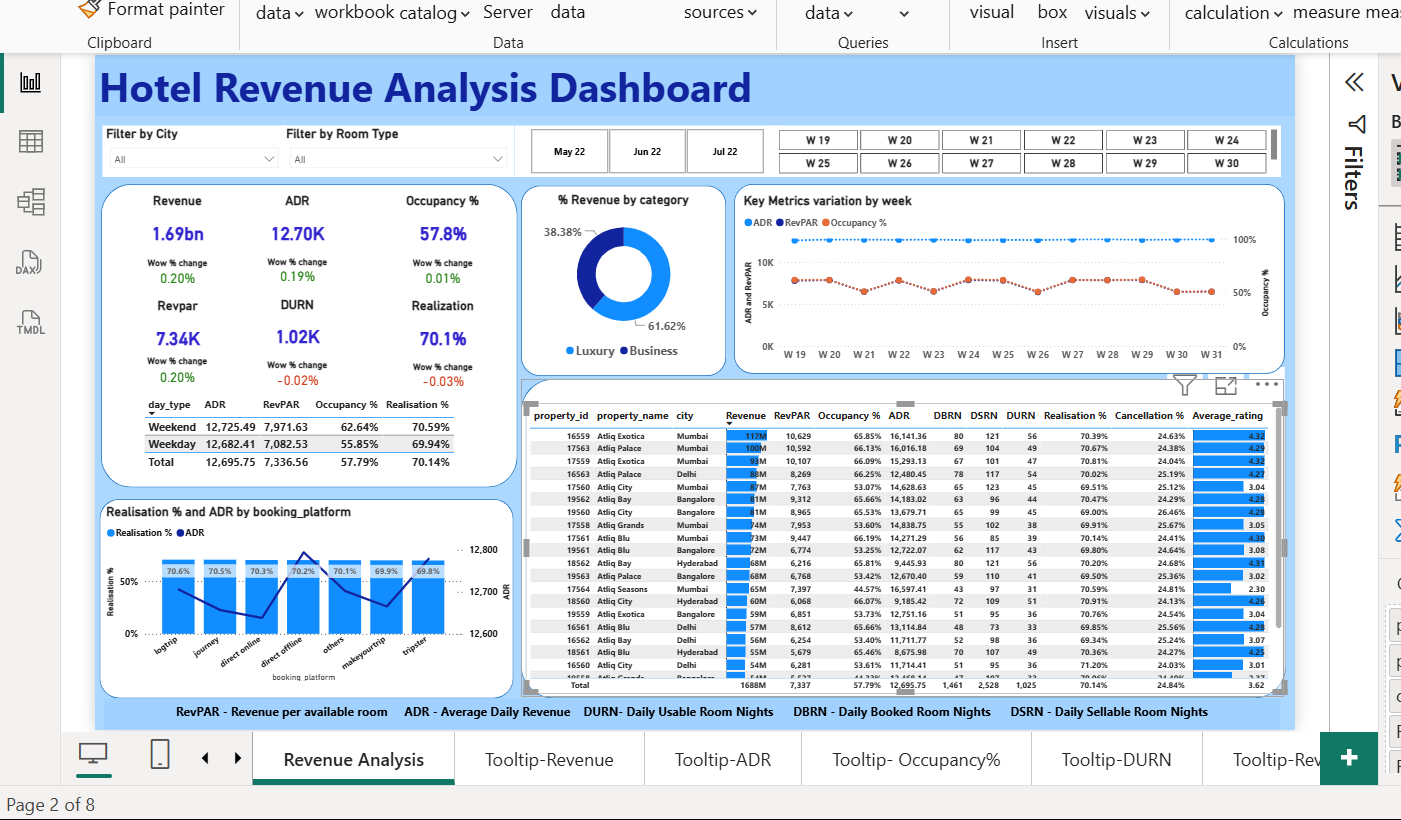

The page's visual inventory and layout, read from the dashboard file:
{"tool":"powerbi","page":{"name":"Revenue Analysis","canvas":[1600,900],"ordinal":1},"visuals":[{"type":"slicer","title":"Filter by City","fields":{"Values":["dim_hotels.city"]},"box":[10.8,93.6,244.8,68.4],"z":0},{"type":"card","title":"ADR","fields":{"Values":["Key_measures.ADR"]},"box":[199.1,185.1,139.5,85.5],"z":0,"group":"g2"},{"type":"group","id":"g1","title":"Group 2","box":[38.9,185.3,139.9,127],"z":0,"group":"g12"},{"type":"card","title":"Revenue ","fields":{"Values":["Key_measures.Revenue"]},"box":[38.9,185.3,139.9,85.5],"z":0,"group":"g1"},{"type":"card","title":"Occupancy %","fields":{"Values":["Key_measures.Occupancy %"]},"box":[392.3,185.8,139.3,86.2],"z":0,"group":"g3"},{"type":"card","title":"DURN","fields":{"Values":["Key_measures.DURN"]},"box":[199.2,323.4,139.5,85.5],"z":0,"group":"g5"},{"type":"card","title":"Realization","fields":{"Values":["Key_measures.Realisation %"]},"box":[392.6,324.5,139.5,85.5],"z":0,"group":"g6"},{"type":"card","title":"Revpar","fields":{"Values":["Key_measures.RevPAR"]},"box":[39.2,325.6,140.3,85.5],"z":0,"group":"g4"},{"type":"shape","box":[582.6,463.3,1020.2,425.6],"z":0,"group":"g7"},{"type":"slicer","title":"Filter by Room Type","fields":{"Values":["dim_rooms.room_class"]},"box":[250.2,93.6,309.6,68.4],"z":1000},{"type":"group","id":"g2","title":"Group 3","box":[199.1,185.1,140,125.6],"z":1000,"group":"g12"},{"type":"card","title":"Wow % change","fields":{"Values":["Key_measures.ADR WoW change %"]},"box":[199.6,269.6,139.5,41.1],"z":1000,"group":"g2"},{"type":"card","title":"Wow % change","fields":{"Values":["Key_measures.Revenue WoW change %"]},"box":[38.9,270.3,139.9,42],"z":1000,"group":"g1"},{"type":"card","title":"Wow % change","fields":{"Values":["Key_measures.Occupancy WoW change %"]},"box":[392.3,270.9,139.3,42],"z":1000,"group":"g3"},{"type":"card","title":"Wow % change","fields":{"Values":["Key_measures.Revpar WoW change %"]},"box":[39.2,400.8,139.3,46.3],"z":1000,"group":"g4"},{"type":"card","title":"Wow % change","fields":{"Values":["Key_measures.DSRN WoW change %"]},"box":[199.4,408.1,139.3,41],"z":1000,"group":"g5"},{"type":"card","title":"Wow % change","fields":{"Values":["Key_measures.Realisation WoW change %"]},"box":[393,409.2,139.5,41.1],"z":1000,"group":"g6"},{"type":"shape","box":[5.4,592.2,552,265.9],"z":1000,"group":"g11"},{"type":"slicer","fields":{"Values":["dim_date.mmm yy"]},"box":[559.8,93.6,351,68.4],"z":2000},{"type":"shape","box":[851.4,172.8,734.4,253.2],"z":2000,"group":"g8"},{"type":"group","id":"g3","title":"Group 4","box":[392.3,185.8,139.3,127.1],"z":2000,"group":"g12"},{"type":"advancedSlicerVisual","fields":{"Values":["dim_date.week no"]},"box":[905.4,93.6,675,68.4],"z":3000},{"type":"shape","box":[568.8,174.6,273.6,254.1],"z":3000,"group":"g9"},{"type":"group","id":"g4","title":"Group 5","box":[39.2,325.6,140.3,121.6],"z":3000,"group":"g12"},{"type":"shape","box":[11.9,279.8,524.8,120.2],"z":4000},{"type":"group","id":"g5","title":"Group 6","box":[199.2,323.4,139.3,126.1],"z":4000,"group":"g12"},{"type":"tableEx","fields":{"Values":["dim_hotels.property_id","dim_hotels.property_name","dim_hotels.city","Key_measures.Revenue","Key_measures.RevPAR","Key_measures.Occupancy %","Key_measures.ADR","Key_measures.DBRN","Key_measures.DSRN","Key_measures.DURN","Key_measures.Realisation %","Key_measures.Cancellation %"]},"box":[589,495.3,1013.8,388],"z":4000,"group":"g7"},{"type":"group","id":"g6","title":"Group 7","box":[392.6,324.5,139.3,126.1],"z":5000,"group":"g12"},{"type":"group","id":"g7","title":"Group 8","box":[582.6,463.3,1018,425.5],"z":5000},{"type":"group","id":"g8","title":"Group 9","box":[851.4,172.8,734.4,253.2],"z":6000},{"type":"group","id":"g9","title":"Group 10","box":[568.8,174.6,273.6,255.6],"z":7000},{"type":"group","id":"g10","title":"Group 11","box":[7.2,172.8,554.4,405],"z":8000},{"type":"shape","box":[7.2,172.8,555.2,404.8],"z":9000,"group":"g10"},{"type":"group","id":"g11","title":"Group 12","box":[5.4,592.2,554.4,264.6],"z":9000},{"type":"textbox","box":[0,0,1600,81],"z":10000},{"type":"group","id":"g12","title":"Group 1","box":[38.9,185.1,493,264.6],"z":10000,"group":"g10"},{"type":"donutChart","title":"% Revenue by category","fields":{"Category":["dim_hotels.category"],"Y":["Key_measures.Revenue"]},"box":[580.3,182.3,249.1,232.4],"z":11000,"group":"g9"},{"type":"textbox","box":[12.6,858.6,1567.8,41.4],"z":11000},{"type":"lineClusteredColumnComboChart","fields":{"Category":["fact_bookings.booking_platform"],"Y":["Key_measures.Realisation %"],"Y2":["Key_measures.ADR"]},"box":[10.2,597.6,548.8,241.5],"z":12000,"group":"g11"},{"type":"lineChart","title":"Key Metrics variation by  week ","fields":{"Y":["Key_measures.ADR","Key_measures.RevPAR"],"Y2":["Key_measures.Occupancy %"],"Category":["dim_date.week no"]},"box":[859.7,185.8,711,234],"z":13000,"group":"g8"},{"type":"tableEx","fields":{"Values":["dim_date.day_type","Key_measures.ADR","Key_measures.RevPAR","Key_measures.Occupancy %","Key_measures.Realisation %"]},"box":[58.2,450.6,464.2,116.8],"z":14000,"group":"g10"}]}

Visuals, with their boxes on the page's 1600x900 design canvas (x1, y1, x2, y2). These are canvas units, not pixel positions in the 1401x820 screenshot, which may show the page scaled, cropped or inside an application window:
"Filter by City" slicer: l=11, t=94, r=256, b=162
"ADR" card: l=199, t=185, r=339, b=271
"Group 2" group: l=39, t=185, r=179, b=312
"Revenue " card: l=39, t=185, r=179, b=271
"Occupancy %" card: l=392, t=186, r=532, b=272
"DURN" card: l=199, t=323, r=339, b=409
"Realization" card: l=393, t=324, r=532, b=410
"Revpar" card: l=39, t=326, r=180, b=411
shape: l=583, t=463, r=1603, b=889
"Filter by Room Type" slicer: l=250, t=94, r=560, b=162
"Group 3" group: l=199, t=185, r=339, b=311
"Wow % change" card: l=200, t=270, r=339, b=311
"Wow % change" card: l=39, t=270, r=179, b=312
"Wow % change" card: l=392, t=271, r=532, b=313
"Wow % change" card: l=39, t=401, r=178, b=447
"Wow % change" card: l=199, t=408, r=339, b=449
"Wow % change" card: l=393, t=409, r=532, b=450
shape: l=5, t=592, r=557, b=858
slicer - dim_date.mmm yy: l=560, t=94, r=911, b=162
shape: l=851, t=173, r=1586, b=426
"Group 4" group: l=392, t=186, r=532, b=313
advancedSlicerVisual - dim_date.week no: l=905, t=94, r=1580, b=162
shape: l=569, t=175, r=842, b=429
"Group 5" group: l=39, t=326, r=180, b=447
shape: l=12, t=280, r=537, b=400
"Group 6" group: l=199, t=323, r=338, b=450
tableEx - dim_hotels.property_id x dim_hotels.property_name: l=589, t=495, r=1603, b=883
"Group 7" group: l=393, t=324, r=532, b=451
"Group 8" group: l=583, t=463, r=1601, b=889
"Group 9" group: l=851, t=173, r=1586, b=426
"Group 10" group: l=569, t=175, r=842, b=430
"Group 11" group: l=7, t=173, r=562, b=578
shape: l=7, t=173, r=562, b=578
"Group 12" group: l=5, t=592, r=560, b=857
textbox: l=0, t=0, r=1600, b=81
"Group 1" group: l=39, t=185, r=532, b=450
"% Revenue by category" donutChart: l=580, t=182, r=829, b=415
textbox: l=13, t=859, r=1580, b=900
lineClusteredColumnComboChart - fact_bookings.booking_platform x Key_measures.Realisation %: l=10, t=598, r=559, b=839
"Key Metrics variation by  week " lineChart: l=860, t=186, r=1571, b=420
tableEx - dim_date.day_type x Key_measures.ADR: l=58, t=451, r=522, b=567
